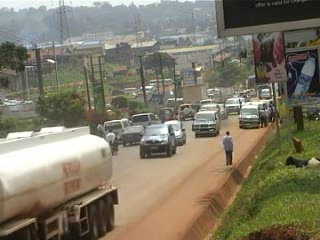Car: (137, 122, 178, 160), (160, 116, 187, 148), (118, 121, 146, 148), (176, 99, 197, 122), (155, 105, 177, 125), (223, 96, 241, 113), (217, 101, 228, 120), (236, 94, 247, 106)
Motorcycle: (103, 128, 118, 157)
